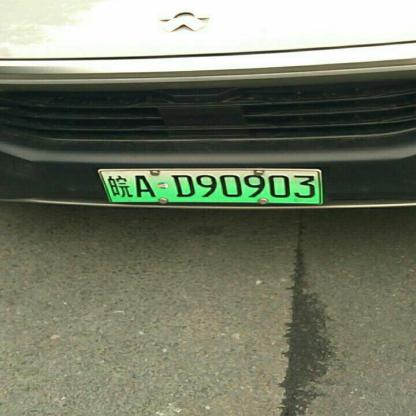lp: (99, 170, 320, 202)
